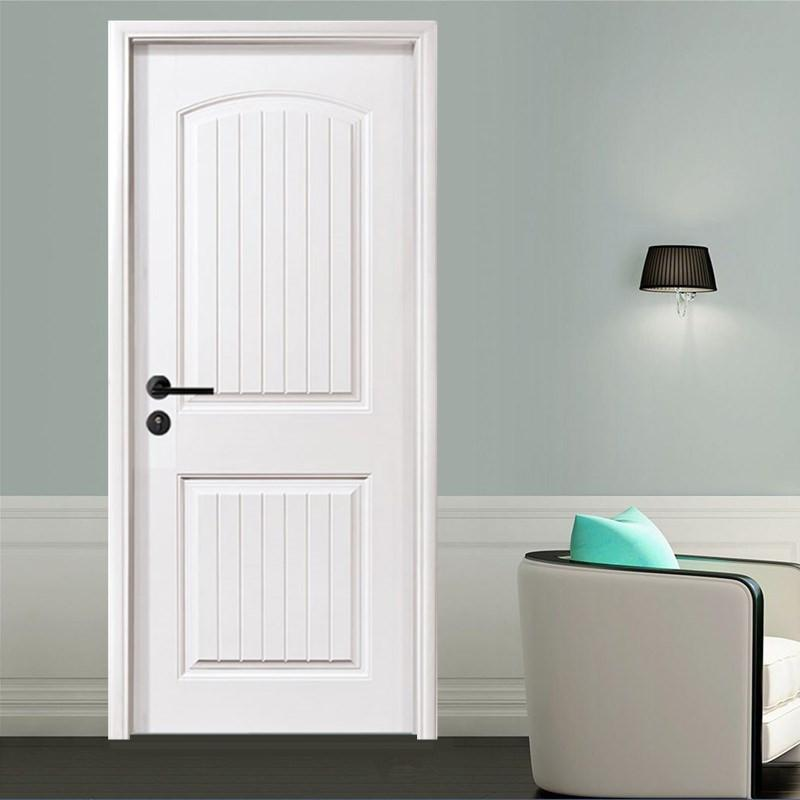door: (133, 40, 421, 734)
